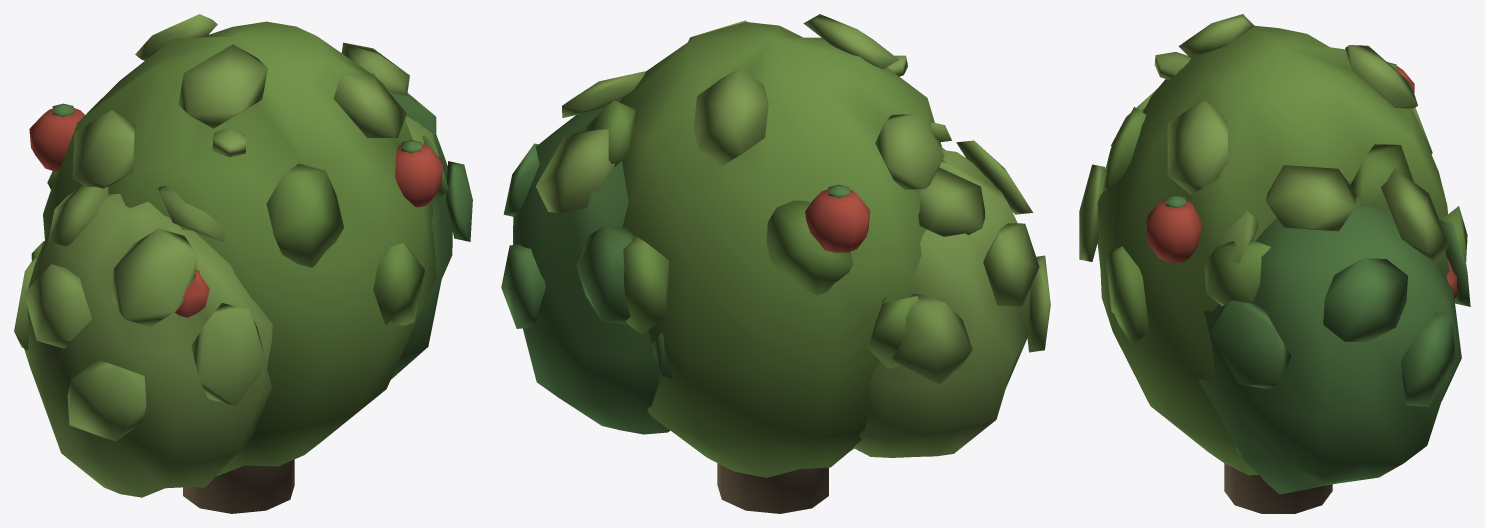
File: bush.glb
3 renders of one model, left to right at view 1: azimuth 30°, elevation 25°; view 2: azimuth 150°, elevation 25°; view 3: azimuth 270°, elevation 25°, orthographic.
Parts seen in each view (by area): view 1: Bush_round_foliage, Bush_round_foliage.001, Bush_leaf_clusters_1, Bush_leaf_clusters_0, Bush_woody_stem, Bush_leaf_clusters_2, Bush_round_foliage.002, Bush_red_berry.001, Bush_red_berry.003, Bush_red_berry, Bush_leaf_tuft.001; view 2: Bush_round_foliage, Bush_leaf_clusters_0, Bush_round_foliage.001, Bush_round_foliage.002, Bush_leaf_clusters_1, Bush_leaf_clusters_2, Bush_woody_stem, Bush_red_berry.003; view 3: Bush_round_foliage, Bush_round_foliage.002, Bush_leaf_clusters_2, Bush_leaf_clusters_0, Bush_woody_stem, Bush_red_berry.001, Bush_leaf_clusters_1, Bush_leaf_tuft.001.
Boxes of the visible parts, x1,y1,x2,y2 form: Bush_round_foliage: (43,21,436,476); Bush_round_foliage.001: (24,194,272,497); Bush_leaf_clusters_1: (14,184,266,441); Bush_leaf_clusters_0: (31,14,448,325); Bush_woody_stem: (183,459,294,513); Bush_leaf_clusters_2: (341,42,472,303); Bush_round_foliage.002: (391,93,452,379); Bush_red_berry.001: (395,144,442,207); Bush_red_berry.003: (29,108,84,171); Bush_red_berry: (175,269,209,317); Bush_leaf_tuft.001: (212,128,246,157); Bush_round_foliage: (619,22,945,477); Bush_leaf_clusters_0: (585,14,944,368); Bush_round_foliage.001: (853,146,1030,457); Bush_round_foliage.002: (513,98,670,434); Bush_leaf_clusters_1: (882,122,1050,384); Bush_leaf_clusters_2: (501,71,671,378); Bush_woody_stem: (717,463,828,513); Bush_red_berry.003: (805,189,870,252); Bush_round_foliage: (1097,25,1447,475); Bush_round_foliage.002: (1198,180,1461,494); Bush_leaf_clusters_2: (1188,165,1470,406); Bush_leaf_clusters_0: (1099,14,1467,344); Bush_woody_stem: (1224,463,1332,513); Bush_red_berry.001: (1146,199,1202,263); Bush_leaf_clusters_1: (1079,89,1156,261); Bush_leaf_tuft.001: (1154,52,1190,80).
Size of the model in its own units: 0.8275 by 0.8 by 0.6188.
